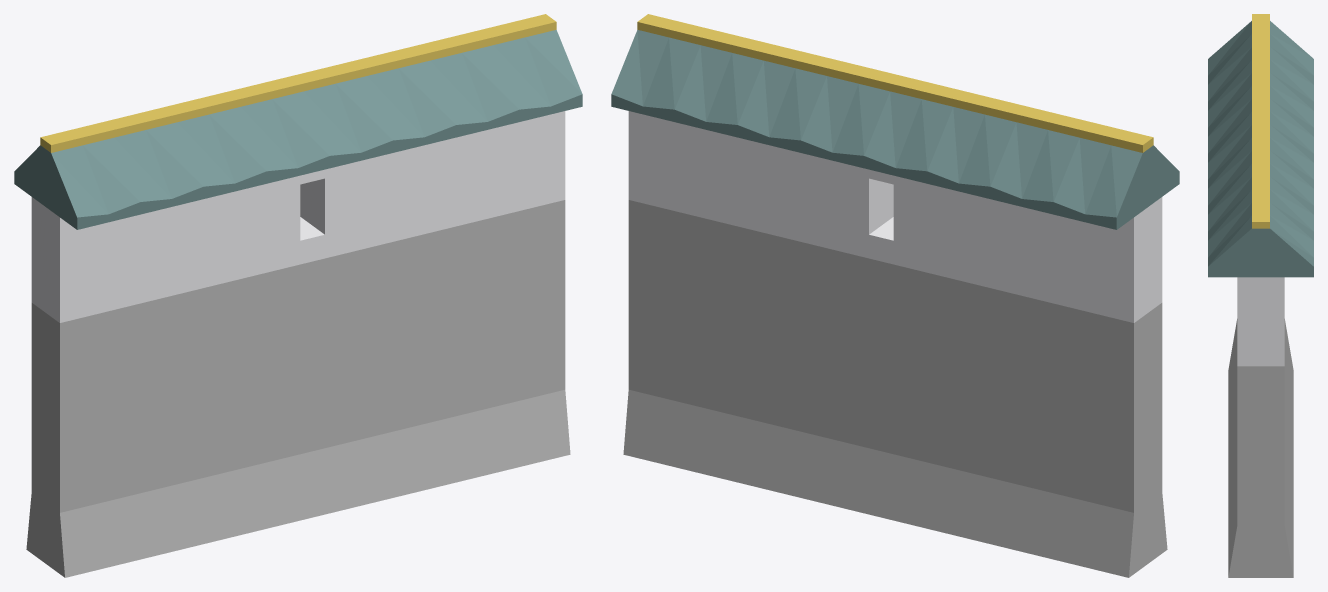
File: Wall_2.fbx
3 views of the same model, side by side, from view 1: azimuth 30°, elevation 25°; view 2: azimuth 150°, elevation 25°; view 3: azimuth 270°, elevation 25° (orthographic). The views are drawn at different scales.
Visible parts, largest first — view 1: Asian_Prop_Building_Fence_Wall_High_Embrasure_04.003, Asian_Prop_Building_Fence_Wall_High_Embrasure_04, Asian_Prop_Building_Fence_Wall_High_Embrasure_04.001, Asian_Prop_Building_Fence_Wall_High_Embrasure_04.002; view 2: Asian_Prop_Building_Fence_Wall_High_Embrasure_04.003, Asian_Prop_Building_Fence_Wall_High_Embrasure_04, Asian_Prop_Building_Fence_Wall_High_Embrasure_04.001, Asian_Prop_Building_Fence_Wall_High_Embrasure_04.002; view 3: Asian_Prop_Building_Fence_Wall_High_Embrasure_04.001, Asian_Prop_Building_Fence_Wall_High_Embrasure_04.003, Asian_Prop_Building_Fence_Wall_High_Embrasure_04, Asian_Prop_Building_Fence_Wall_High_Embrasure_04.002.
Boxes of the visible parts, box(x1,y1,x2,y2) form: Asian_Prop_Building_Fence_Wall_High_Embrasure_04.003: box(26, 200, 570, 577); Asian_Prop_Building_Fence_Wall_High_Embrasure_04: box(31, 111, 565, 322); Asian_Prop_Building_Fence_Wall_High_Embrasure_04.001: box(14, 30, 582, 229); Asian_Prop_Building_Fence_Wall_High_Embrasure_04.002: box(40, 14, 556, 152); Asian_Prop_Building_Fence_Wall_High_Embrasure_04.003: box(623, 200, 1167, 577); Asian_Prop_Building_Fence_Wall_High_Embrasure_04: box(628, 111, 1162, 322); Asian_Prop_Building_Fence_Wall_High_Embrasure_04.001: box(611, 30, 1179, 229); Asian_Prop_Building_Fence_Wall_High_Embrasure_04.002: box(637, 14, 1153, 152); Asian_Prop_Building_Fence_Wall_High_Embrasure_04.001: box(1208, 21, 1313, 277); Asian_Prop_Building_Fence_Wall_High_Embrasure_04.003: box(1228, 319, 1293, 577); Asian_Prop_Building_Fence_Wall_High_Embrasure_04: box(1237, 277, 1284, 366); Asian_Prop_Building_Fence_Wall_High_Embrasure_04.002: box(1252, 14, 1269, 228).
Bounding box in the file's own units: 517 × 413 × 111.
